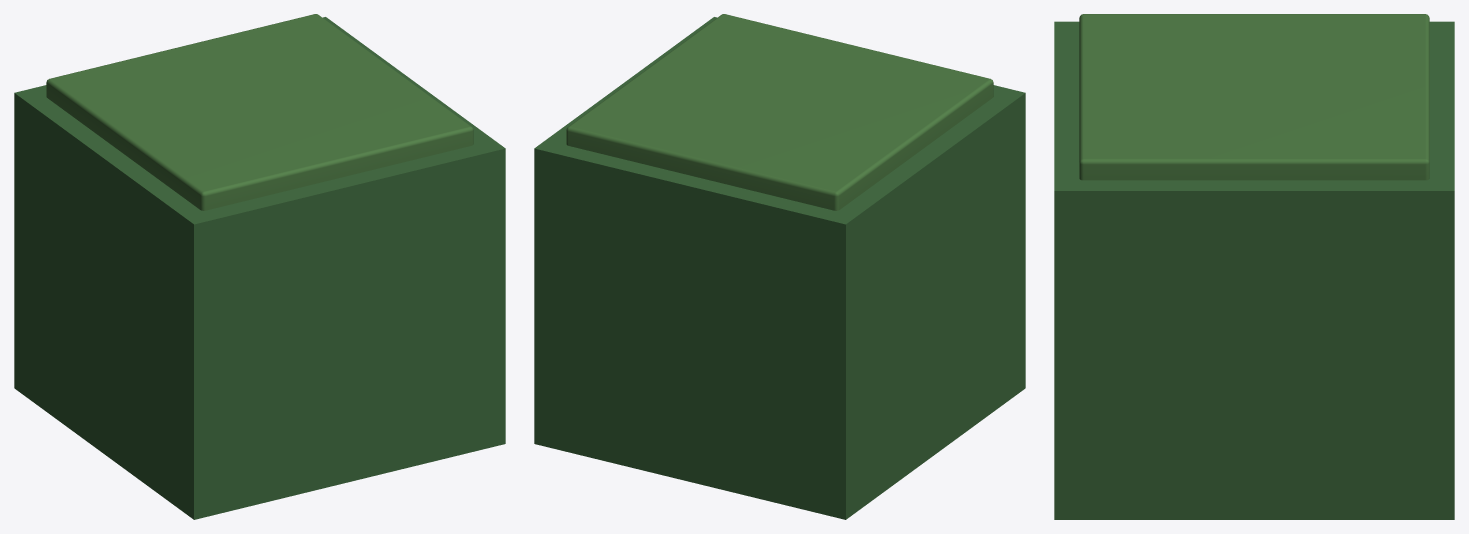
Rendered from shrub_07.glb.
3 views of the same model, side by side, from view 1: azimuth 30°, elevation 25°; view 2: azimuth 150°, elevation 25°; view 3: azimuth 270°, elevation 25° (orthographic). The views are drawn at different scales.
Parts seen in each view (by area): view 1: Tint, Top ridge; view 2: Tint, Top ridge; view 3: Tint, Top ridge.
Part boxes in pixels (x1=…): Tint: x1=14, y1=17, x2=505, y2=519; Top ridge: x1=46, y1=14, x2=473, y2=210; Tint: x1=534, y1=17, x2=1025, y2=519; Top ridge: x1=566, y1=14, x2=993, y2=210; Tint: x1=1054, y1=21, x2=1454, y2=519; Top ridge: x1=1079, y1=14, x2=1429, y2=180.
Bounding box in the file's own units: 0.7285 × 0.7 × 0.7285.
